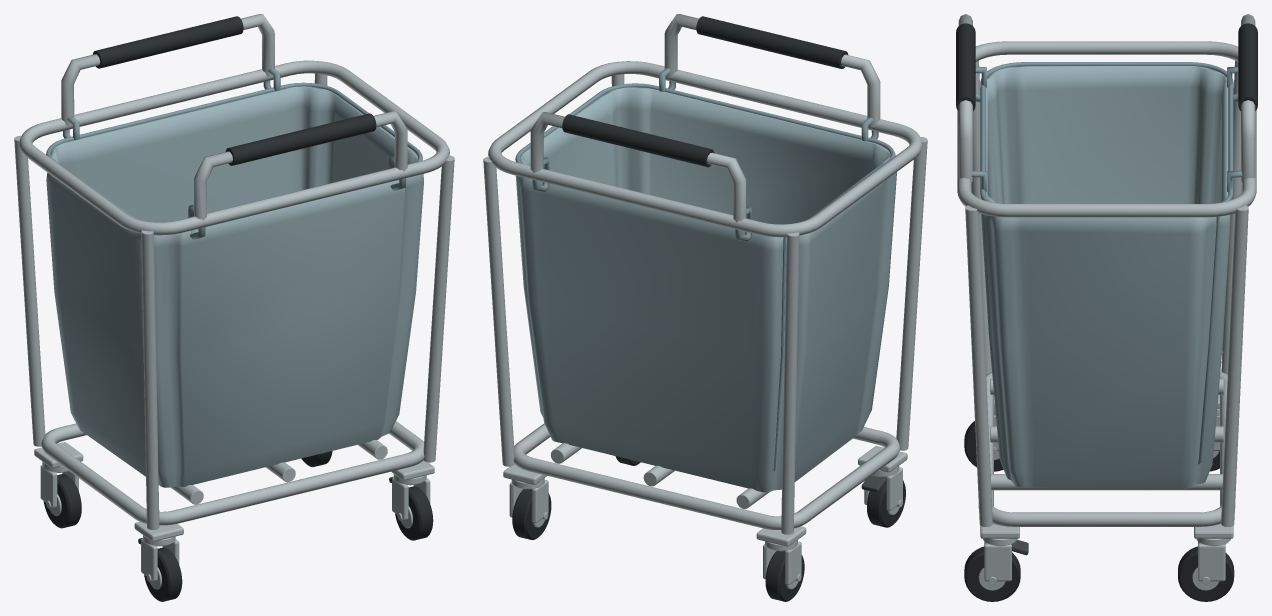
The model's file is city-linen-hamper-trolley.glb.
3 views of the same model, side by side, from view 1: azimuth 30°, elevation 25°; view 2: azimuth 150°, elevation 25°; view 3: azimuth 270°, elevation 25° (orthographic). The views are drawn at different scales.
Parts seen in each view (by area): view 1: Assembly | Blue grey linen canvas appearance, Assembly | Satin structural steel, Assembly | Graphite rubber and grips, Assembly | Folded fabric seam binding; view 2: Assembly | Blue grey linen canvas appearance, Assembly | Satin structural steel, Assembly | Graphite rubber and grips, Assembly | Folded fabric seam binding; view 3: Assembly | Blue grey linen canvas appearance, Assembly | Satin structural steel, Assembly | Graphite rubber and grips, Assembly | Folded fabric seam binding.
Boxes of the visible parts, bbox=[...] form: Assembly | Blue grey linen canvas appearance: bbox=[46, 86, 423, 487]; Assembly | Satin structural steel: bbox=[14, 14, 454, 589]; Assembly | Graphite rubber and grips: bbox=[43, 16, 433, 601]; Assembly | Folded fabric seam binding: bbox=[46, 67, 422, 239]; Assembly | Blue grey linen canvas appearance: bbox=[515, 87, 896, 492]; Assembly | Satin structural steel: bbox=[483, 14, 927, 589]; Assembly | Graphite rubber and grips: bbox=[512, 16, 905, 601]; Assembly | Folded fabric seam binding: bbox=[515, 68, 895, 471]; Assembly | Blue grey linen canvas appearance: bbox=[981, 66, 1230, 488]; Assembly | Satin structural steel: bbox=[957, 14, 1256, 590]; Assembly | Graphite rubber and grips: bbox=[956, 23, 1257, 601]; Assembly | Folded fabric seam binding: bbox=[971, 62, 1242, 464].
Size of the model in its own units: 0.778 by 1.02 by 0.588.
